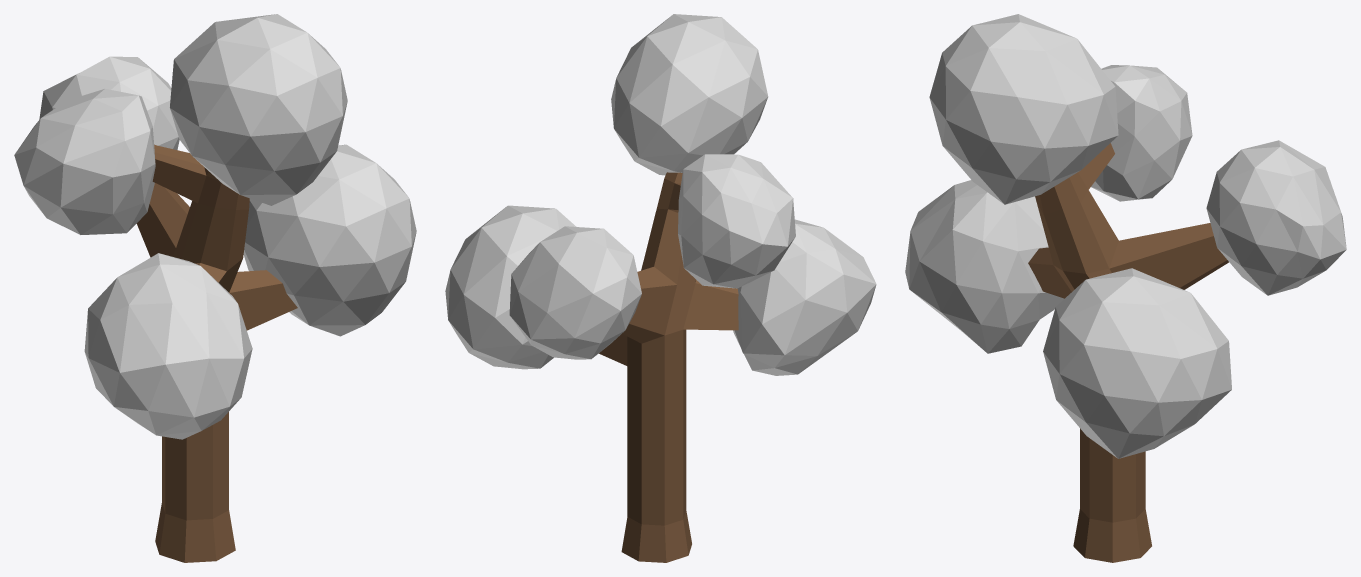
The model's file is oakTree1.fbx.
The picture shows the model from 3 angles, left to right: view 1: azimuth 30°, elevation 25°; view 2: azimuth 150°, elevation 25°; view 3: azimuth 270°, elevation 25°; orthographic projection. The views are drawn at different scales.
Parts seen in each view (by area): view 1: Tree; view 2: Tree; view 3: Tree.
Boxes of the visible parts, left/top/right/bottom form: Tree: left=14, top=14, right=416, bottom=562; Tree: left=445, top=14, right=876, bottom=562; Tree: left=905, top=14, right=1346, bottom=562.
Bounding box in the file's own units: 3.25 × 4.57 × 3.45.
